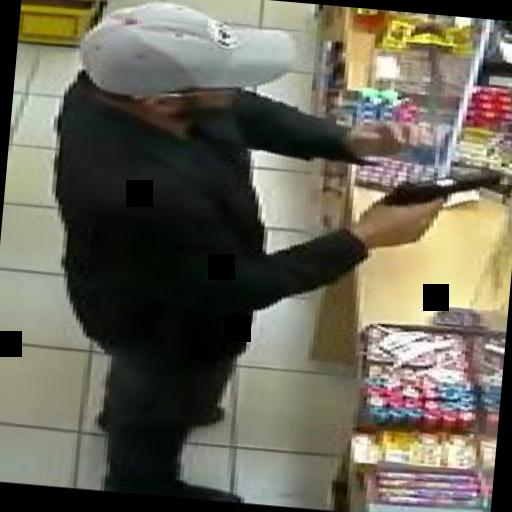Handgun: (374, 158, 501, 244)
